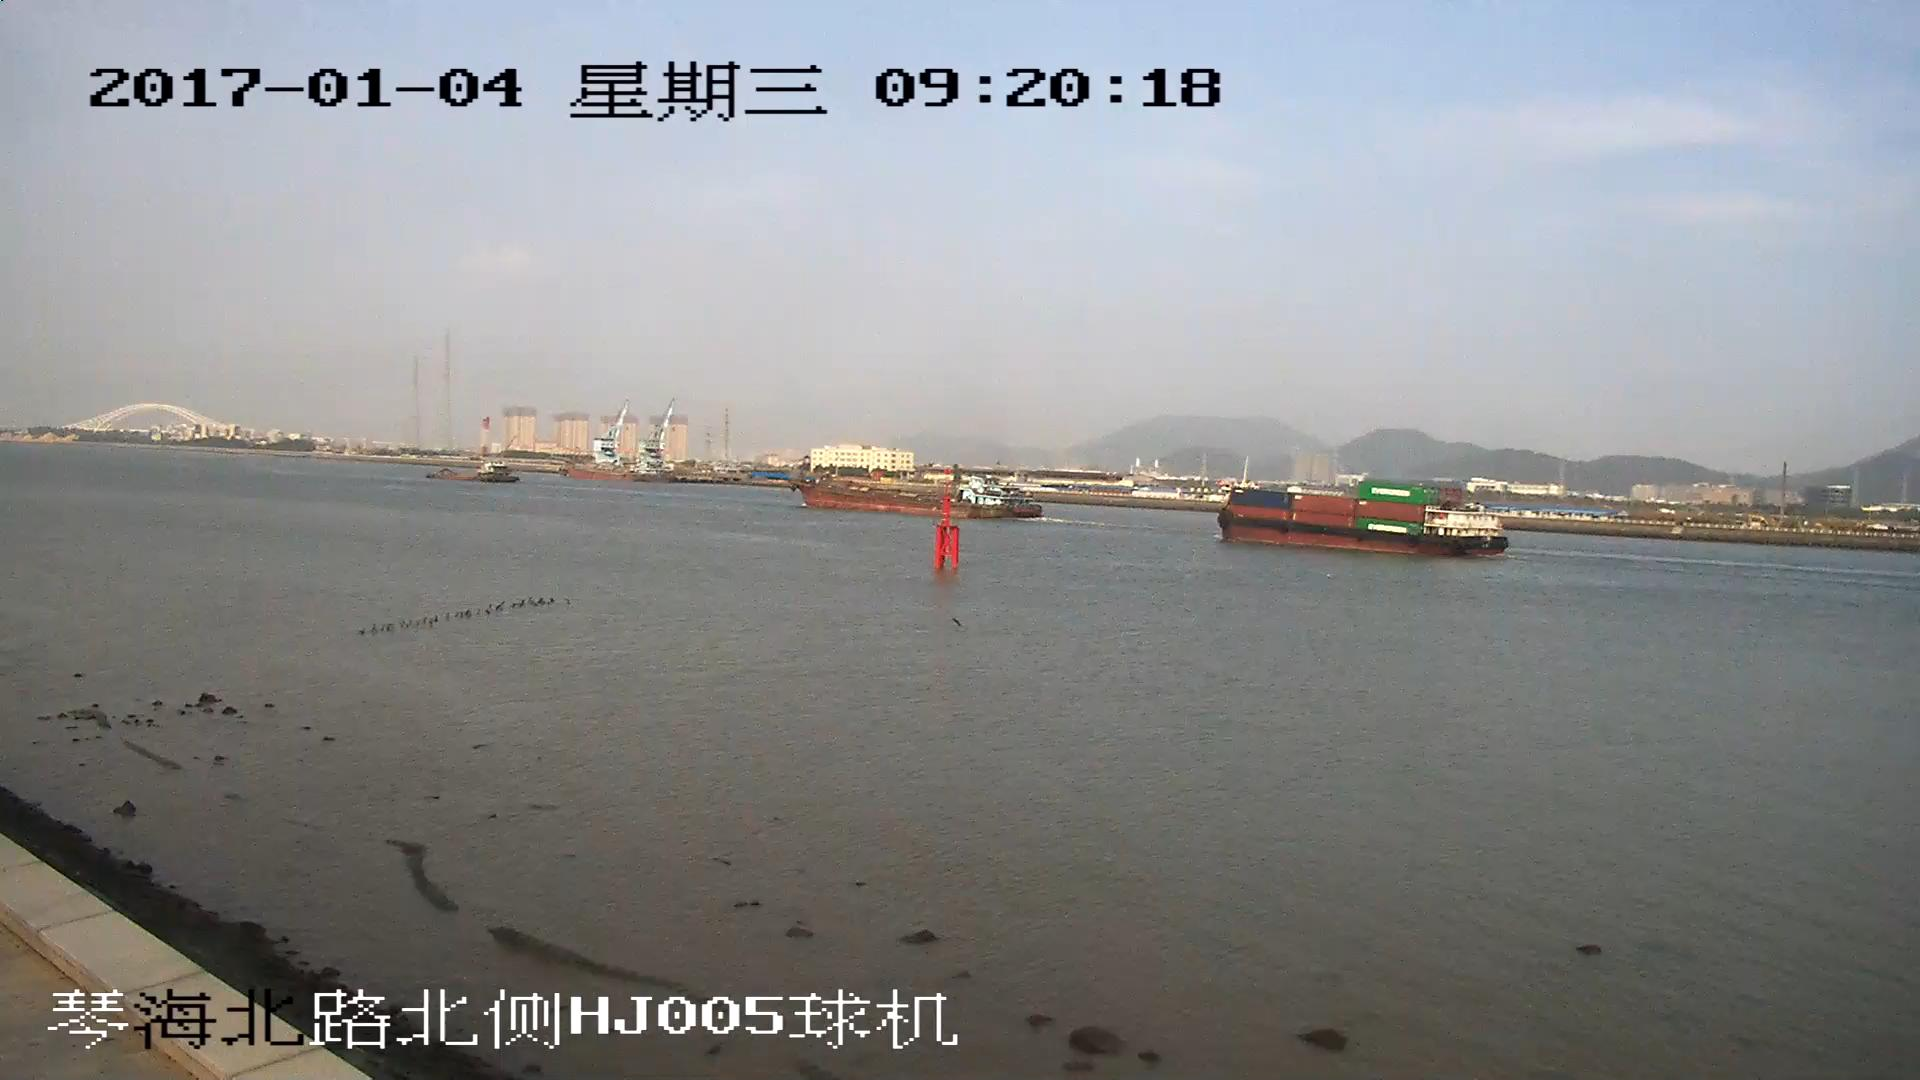bulk cargo carrier: (780, 466, 1042, 521)
container ship: (1223, 482, 1510, 561)
